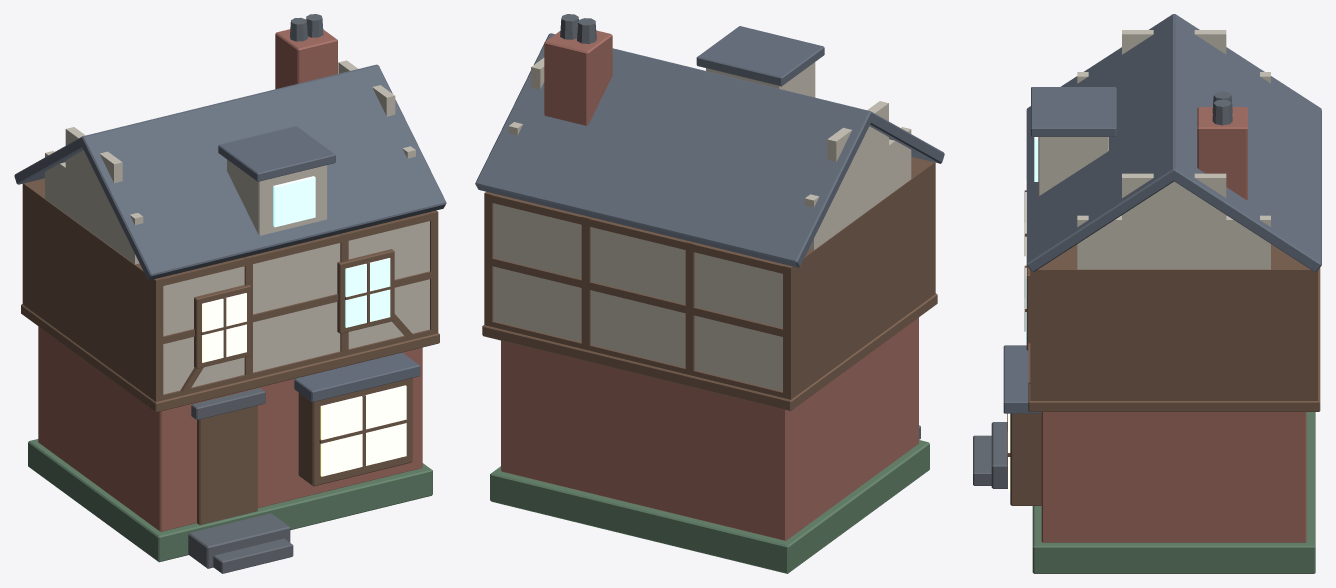
Rendered from outdoor_townhouse.glb.
3 renders of one model, left to right at view 1: azimuth 30°, elevation 25°; view 2: azimuth 150°, elevation 25°; view 3: azimuth 270°, elevation 25°, orthographic. The views are drawn at different scales.
Parts seen in each view (by area): view 1: Outdoor_Townhouse; view 2: Outdoor_Townhouse; view 3: Outdoor_Townhouse.
Boxes of the visible parts, bbox=[...] form: Outdoor_Townhouse: bbox=[14, 14, 446, 573]; Outdoor_Townhouse: bbox=[475, 14, 944, 573]; Outdoor_Townhouse: bbox=[973, 14, 1321, 573].
Bounding box in the file's own units: 4.96 × 6.74 × 4.68.
